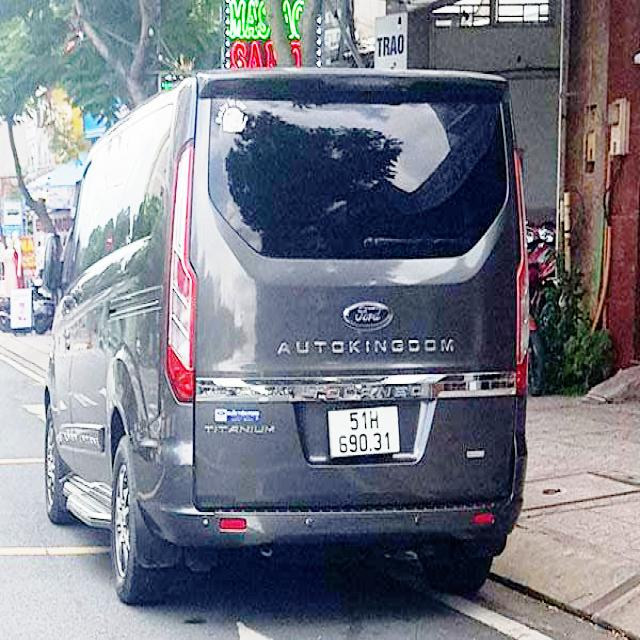license_plate: (332, 406, 401, 458)
